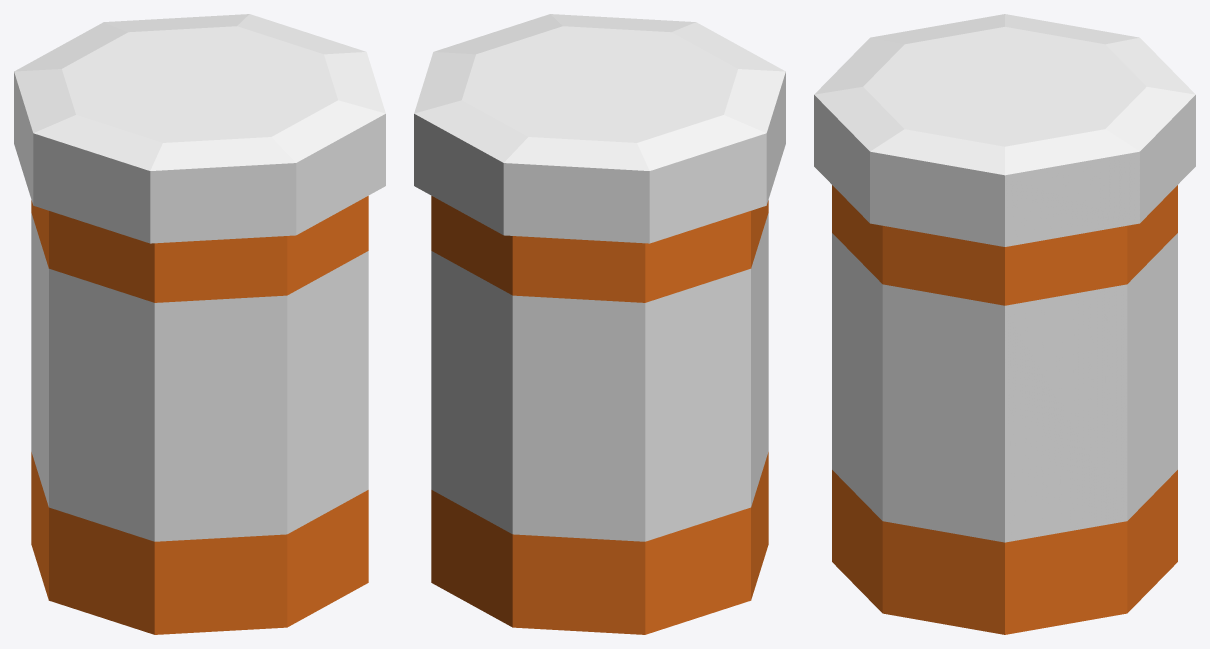
Rendered from survival_drugs.fbx.
3 views of the same model, side by side, from view 1: azimuth 30°, elevation 25°; view 2: azimuth 150°, elevation 25°; view 3: azimuth 270°, elevation 25° (orthographic).
Visible parts, largest first — view 1: survival_drugs; view 2: survival_drugs; view 3: survival_drugs.
Boxes of the visible parts, x1,y1,x2,y2 form: survival_drugs: (14,14,385,634); survival_drugs: (414,14,785,634); survival_drugs: (814,14,1195,634).
Size of the model in its own units: 146 by 200 by 146.
Materials: 1 (1 with a texture image).
